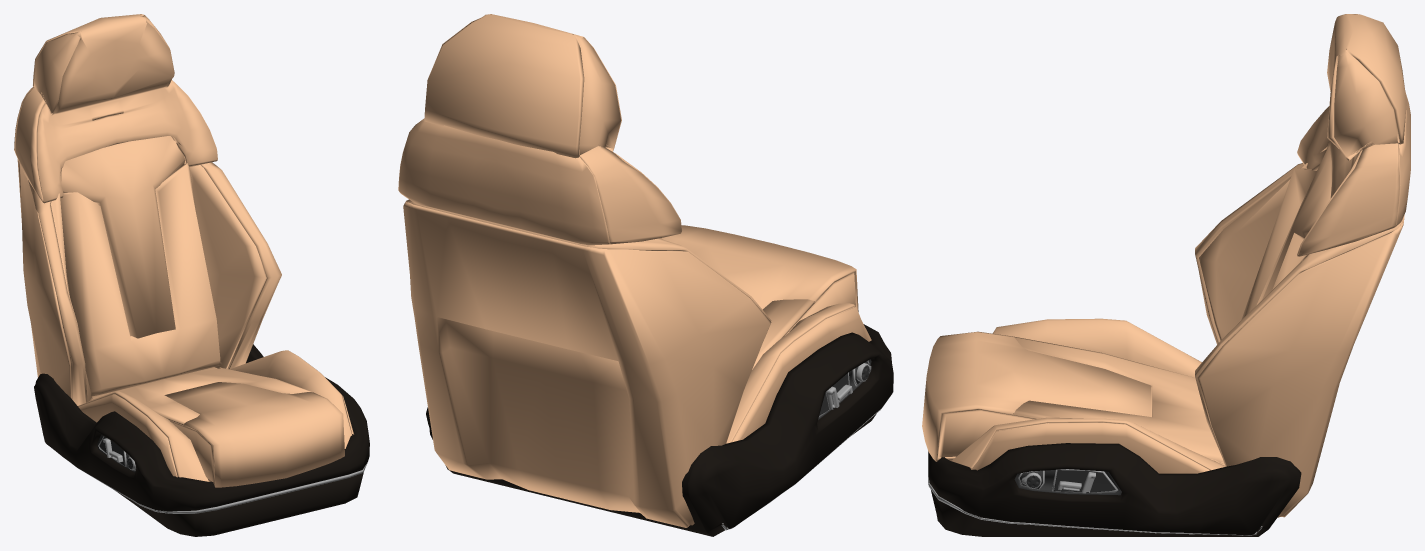
The model's file is Car_seat.gltf.
3 renders of one model, left to right at view 1: azimuth 30°, elevation 25°; view 2: azimuth 150°, elevation 25°; view 3: azimuth 270°, elevation 25°, orthographic. The views are drawn at different scales.
Parts seen in each view (by area): view 1: CarSeat; view 2: CarSeat; view 3: CarSeat.
Boxes of the visible parts, x1=… form: CarSeat: x1=14, y1=14, x2=369, y2=536; CarSeat: x1=398, y1=14, x2=893, y2=536; CarSeat: x1=922, y1=14, x2=1410, y2=536.
Bounding box in the file's own units: 2.23 × 3.55 × 3.49.
